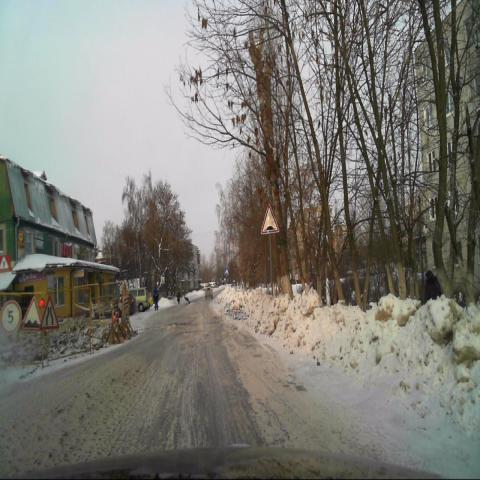1_16: (22, 297, 42, 330)
1_20: (40, 296, 59, 329)
